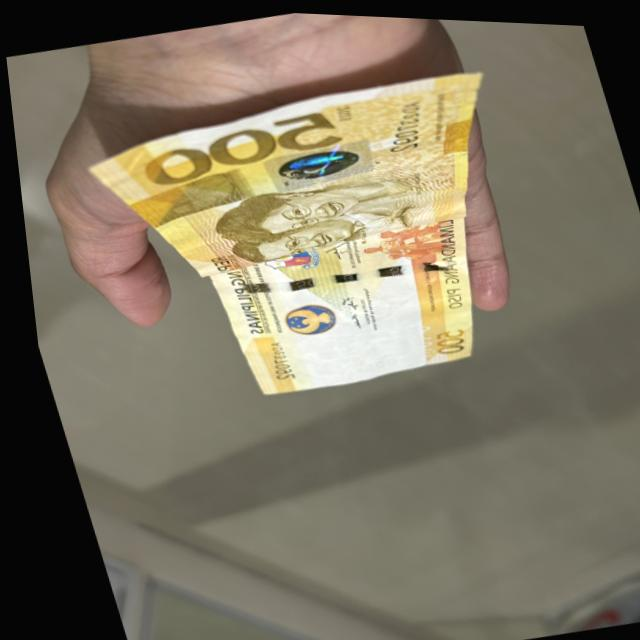concealed_value: (132, 168, 242, 231)
optically_variable_device: (273, 141, 360, 189)
security_thread: (227, 239, 461, 307)
see_through_mark: (402, 316, 439, 360)
serial_number: (359, 83, 444, 165), (253, 332, 293, 387)
value: (114, 94, 343, 200)
